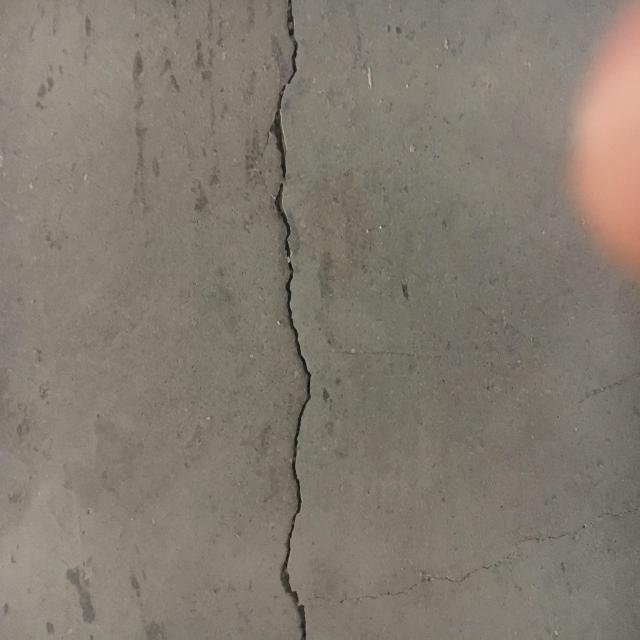Rachadura: (263, 0, 315, 640)
